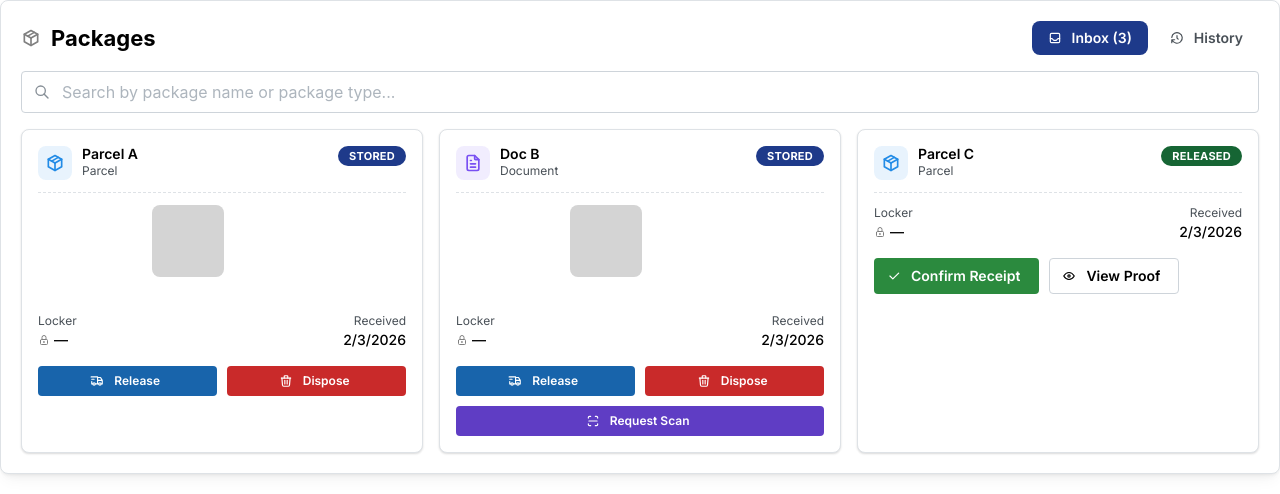
Test: UserPackages (user) component › filters packages by search input
In the field with placeholder "Search by package name or package type...": (640, 92) [21,71,1259,113], type "Doc B"
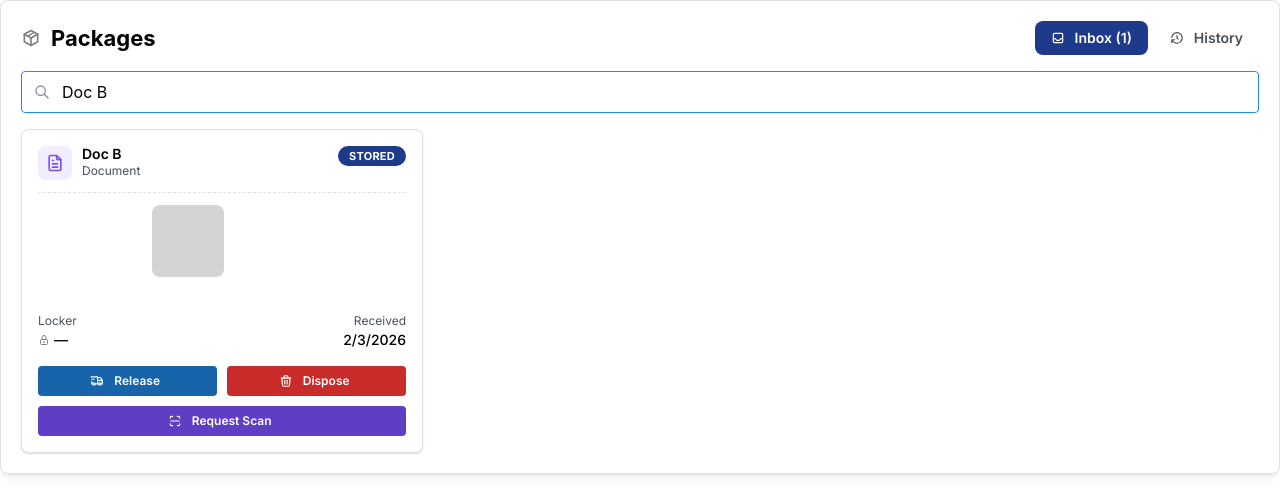
Expected: the text "Doc B" is shown, [82,145,122,162]
Result: the text "Parcel A" is gone
